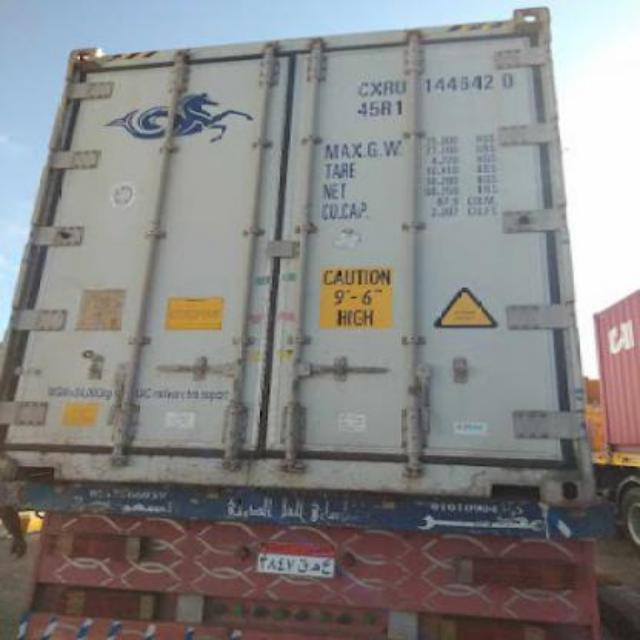0: (500, 66, 516, 90)
1: (422, 73, 434, 94)
2: (481, 67, 494, 97)
4: (466, 67, 482, 97), (444, 69, 456, 95), (434, 74, 446, 96)
6: (458, 68, 468, 95)
C: (350, 74, 368, 100)
R: (381, 75, 394, 98)
U: (392, 74, 410, 98)
X: (368, 74, 384, 98)
